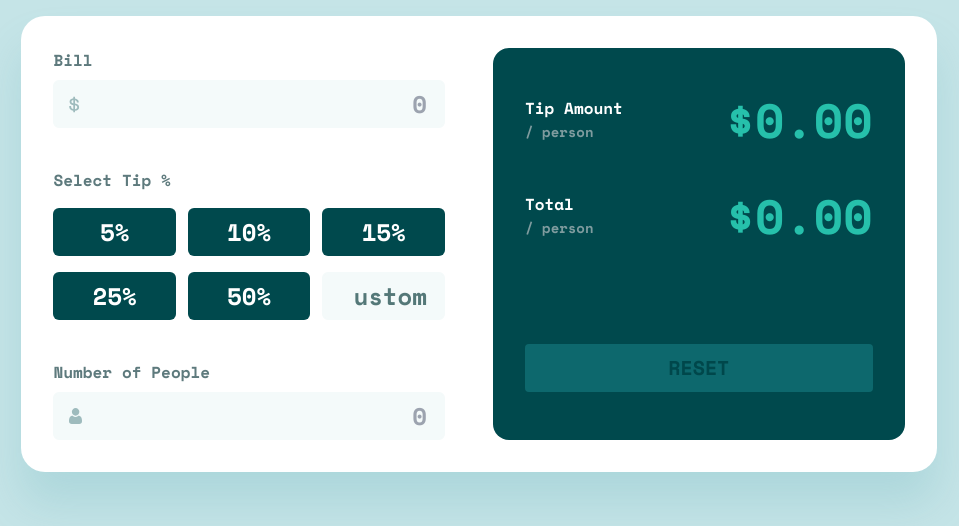
it: TipCalculator › should calculate tip amount and total amount correctly when custom tip is entered
Type "120" into the number field labelled "Bill" at (249, 104), box x1=53 y1=80 x2=445 y2=128
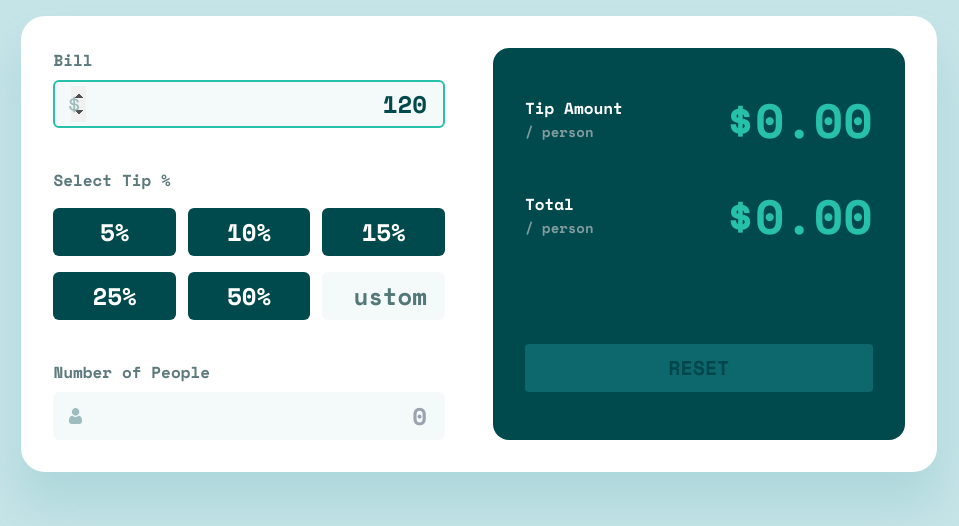
Type "2" into the number field labelled "Number of People" at (249, 416), box x1=53 y1=392 x2=445 y2=440
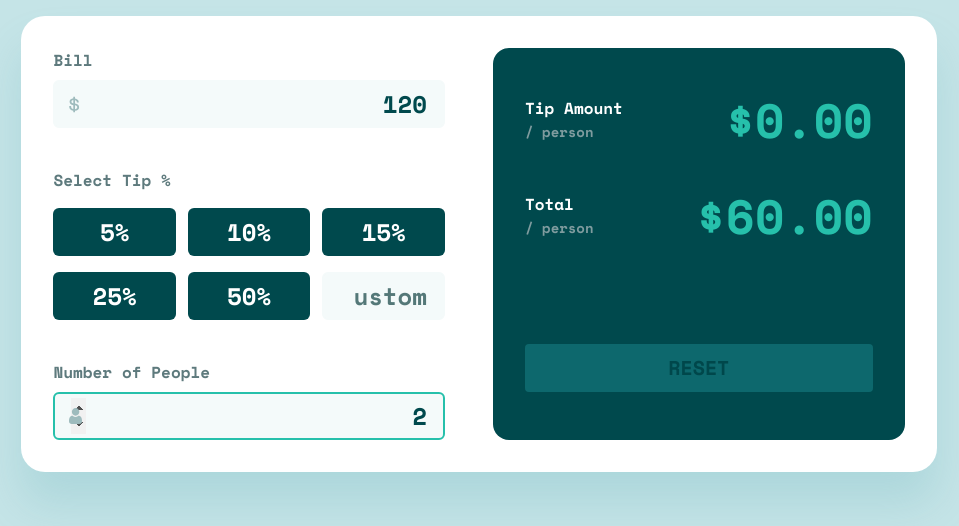
Type "3" into the number field with placeholder "Custom" at (384, 296), box x1=322 y1=272 x2=445 y2=320
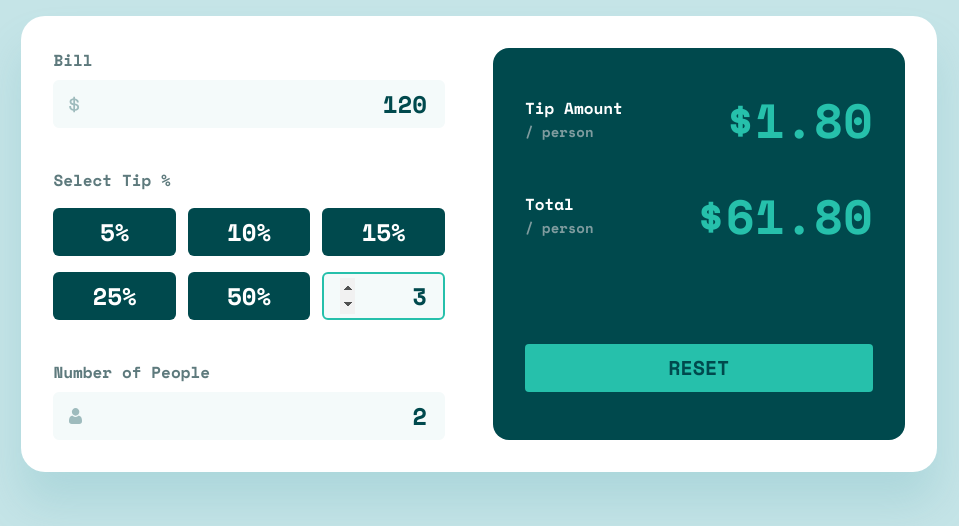
Check: the text "$1.80" is shown, box x1=726 y1=96 x2=873 y2=144
Check: the text "$61.80" is shown, box x1=696 y1=192 x2=873 y2=240
